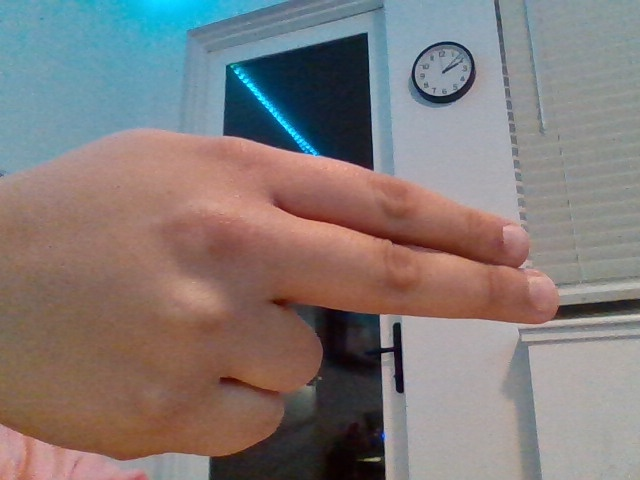h: (0, 127, 559, 459)
